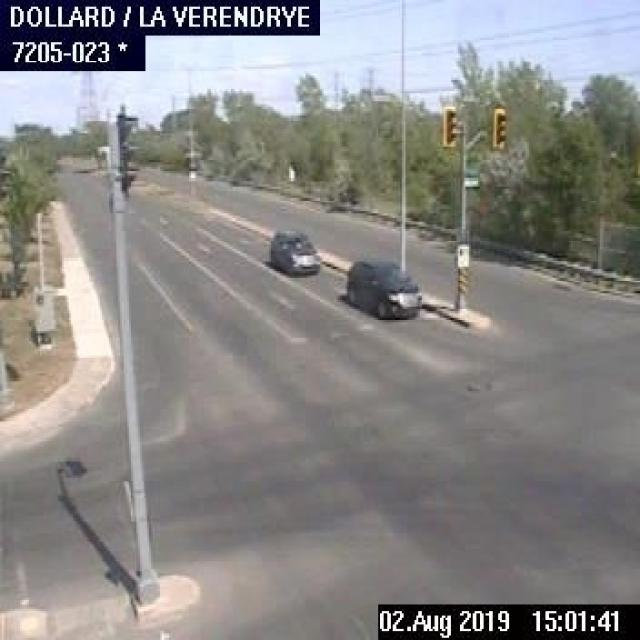vehicle: (342, 253, 420, 316), (265, 227, 320, 273)
